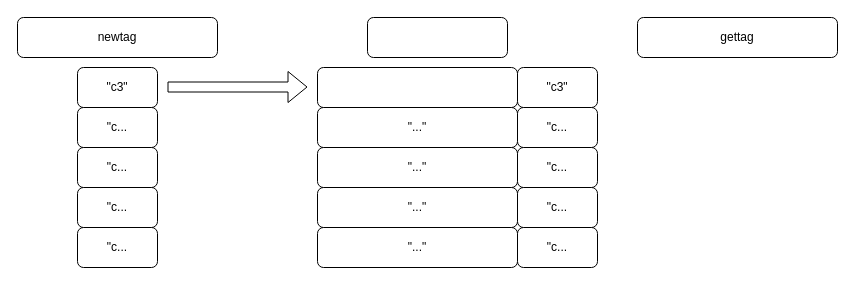
Some shapes in this 855 by 285 pixel diagram are drawn without their labels. Each missing label, with the centre of its shape:
"dRkQnjKu9n-pmXYVSlKa-6": [417,87]
memotag: [437,37]
